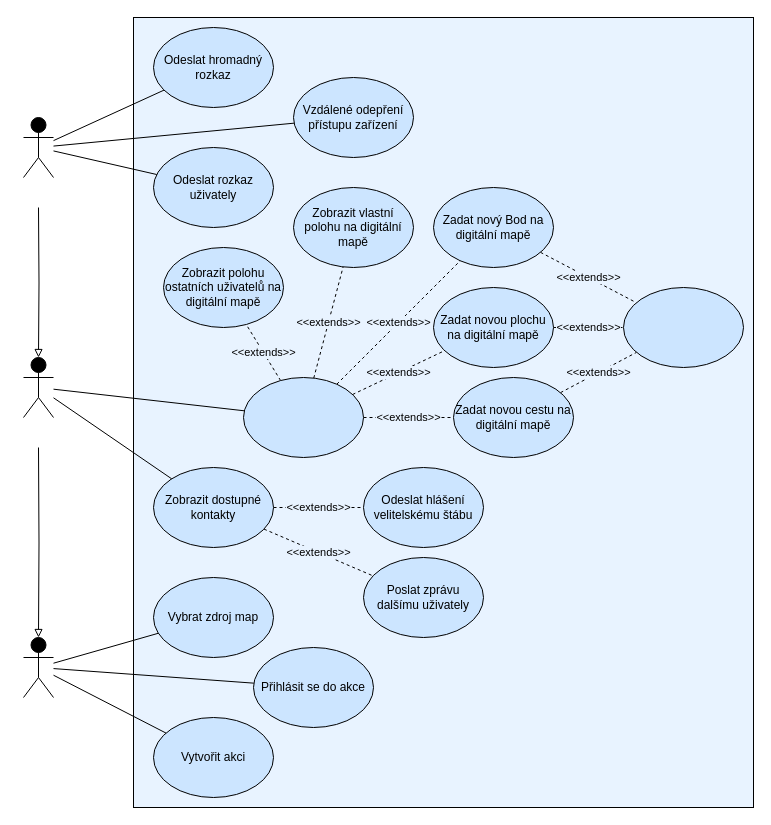
The diagram is 771 pixels wide and 825 high, and some of its shapes have lost their labels. Each missing label, with the box of its shape:
Prohlížení digitální mapy: (242, 376, 364, 458)
Přiřadit obrázek/fotografii k mapovému objektu: (622, 286, 744, 368)
Uživatel zařízení: (22, 636, 54, 698)
Voják: (22, 356, 54, 418)
Štáb: (22, 116, 54, 178)
